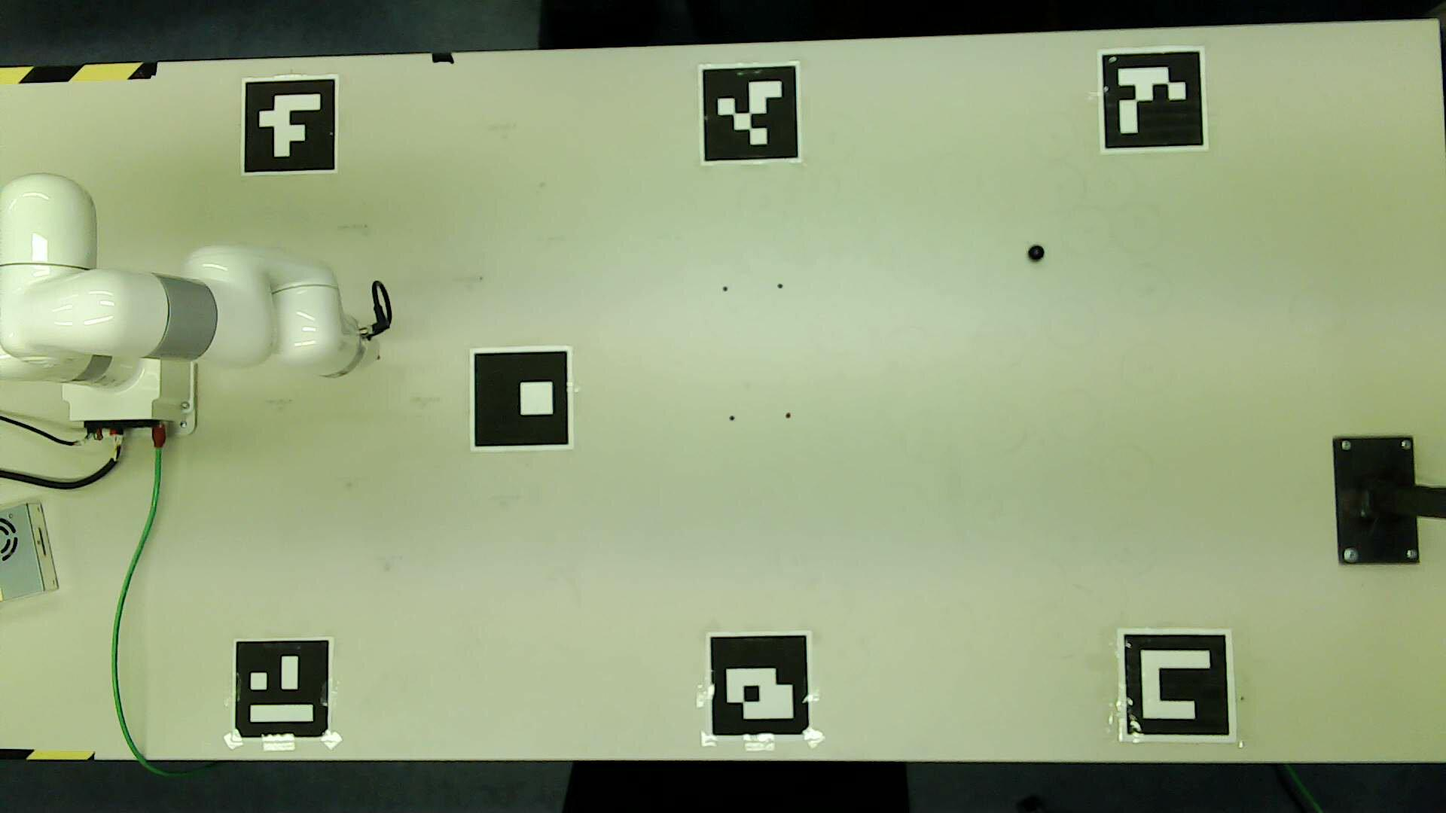ball: (1029, 246, 1044, 260)
